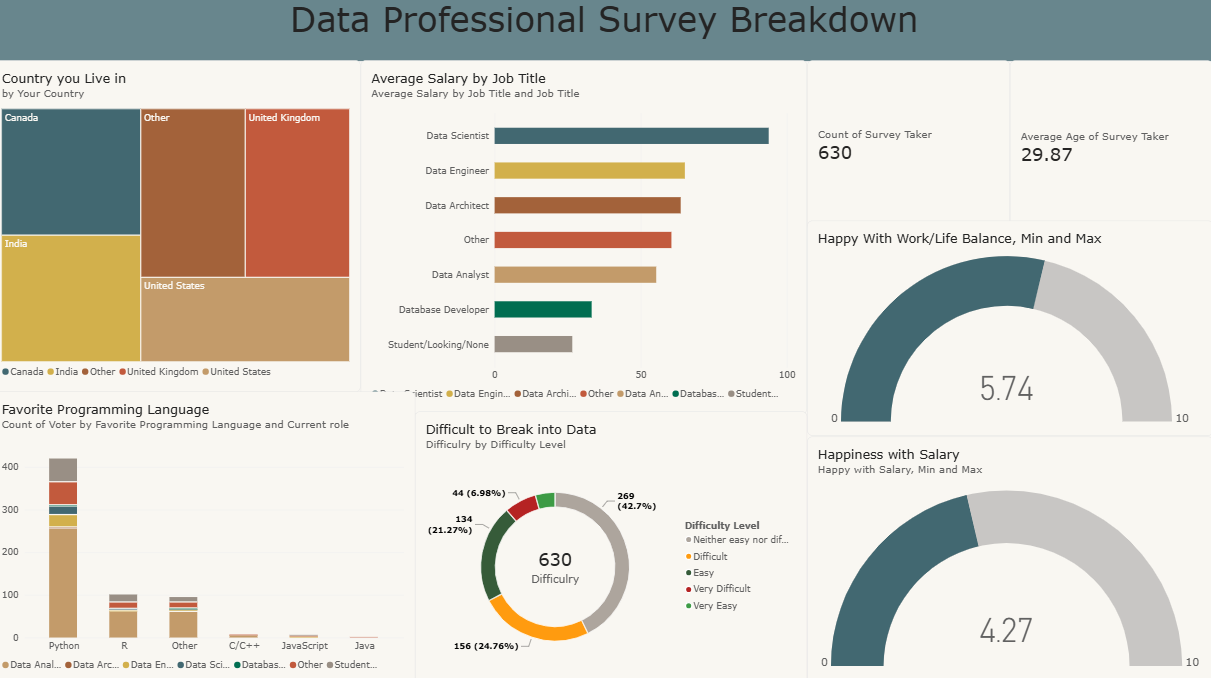

What the dashboard file says about the page in this screenshot:
{"tool":"powerbi","page":{"name":"Page 1","canvas":[1920,1080],"ordinal":0},"visuals":[{"type":"textbox","box":[9.1,0,1911.9,99.7],"z":0},{"type":"cardVisual","fields":{"Data":["Avg(Data Professional Survey.Q10 - Current Age)"]},"box":[1602.2,98,319.2,274.9],"z":1000},{"type":"cardVisual","fields":{"Data":["CountNonNull(Data Professional Survey.Unique ID)"]},"box":[1283,98,319.2,268.6],"z":2000},{"type":"barChart","title":"Average Salary by Job Title","fields":{"Category":["Data Professional Survey.Q1 - Which Title Best Fits your Current Role?.1"],"Series":["Data Professional Survey.Q1 - Which Title Best Fits your Current Role?.1"],"Y":["Avg(Data Professional Survey.Average Salary)"]},"box":[581.5,98,701.6,556.2],"z":2001},{"type":"columnChart","title":"Favorite Programming Language","fields":{"Category":["Data Professional Survey.Q5 - Favorite Programming Language.1"],"Series":["Data Professional Survey.Q1 - Which Title Best Fits your Current Role?.1"],"Y":["CountNonNull(Data Professional Survey.Unique ID)"]},"box":[0,619.4,666.8,461.4],"z":2002},{"type":"treemap","fields":{"Group":["Data Professional Survey.Q11 - Which Country do you live in?.1"],"Values":["Count(Data Professional Survey.Q11 - Which Country do you live in?.1)"]},"box":[0,98,581.5,521.4],"z":2003},{"type":"gauge","fields":{"MaxValue":["Max(Data Professional Survey.Q6 - How Happy are you in your Current Position with the following? (Work/Life Balance))1"],"MinValue":["Min(Data Professional Survey.Q6 - How Happy are you in your Current Position with the following? (Work/Life Balance))"],"Y":["Avg(Data Professional Survey.Q6 - How Happy are you in your Current Position with the following? (Work/Life Balance))"]},"box":[1283,350.8,638.4,338.1],"z":2004},{"type":"gauge","title":"Happiness with Salary","fields":{"MaxValue":["Max(Data Professional Survey.Q6 - How Happy are you in your Current Position with the following? (Salary))1"],"MinValue":["Min(Data Professional Survey.Q6 - How Happy are you in your Current Position with the following? (Salary))"],"Y":["Avg(Data Professional Survey.Q6 - How Happy are you in your Current Position with the following? (Salary))"]},"box":[1283,688.9,638.4,391.9],"z":2005},{"type":"donutChart","title":"Difficult to Break into Data","fields":{"Category":["Data Professional Survey.Q7 - How difficult was it for you to break into Data?"],"Y":["CountNonNull(Data Professional Survey.Q7 - How difficult was it for you to break into Data?)"]},"box":[666.8,651,616.2,429.8],"z":2006}]}

Visuals, with their boxes in screenshot pixels (x1, y1, x2, y2), scaled from the page's 1920x1080 canvas onto the 1211x678 screenshot:
textbox: x1=6, y1=0, x2=1210, y2=63
cardVisual - Avg(Data Professional Survey.Q10 - Current Age): x1=1011, y1=62, x2=1210, y2=234
cardVisual - CountNonNull(Data Professional Survey.Unique ID): x1=809, y1=62, x2=1011, y2=230
"Average Salary by Job Title" barChart: x1=367, y1=62, x2=809, y2=411
"Favorite Programming Language" columnChart: x1=0, y1=389, x2=421, y2=677
treemap - Data Professional Survey.Q11 - Which Country do you live in?.1 x Count(Data Professional Survey.Q11 - Which Country do you live in?.1): x1=0, y1=62, x2=367, y2=389
gauge - Max(Data Professional Survey.Q6 - How Happy are you in your Current Position with the following? (Work/Life Balance))1 x Min(Data Professional Survey.Q6 - How Happy are you in your Current Position with the following? (Work/Life Balance)): x1=809, y1=220, x2=1210, y2=432
"Happiness with Salary" gauge: x1=809, y1=432, x2=1210, y2=677
"Difficult to Break into Data" donutChart: x1=421, y1=409, x2=809, y2=677
